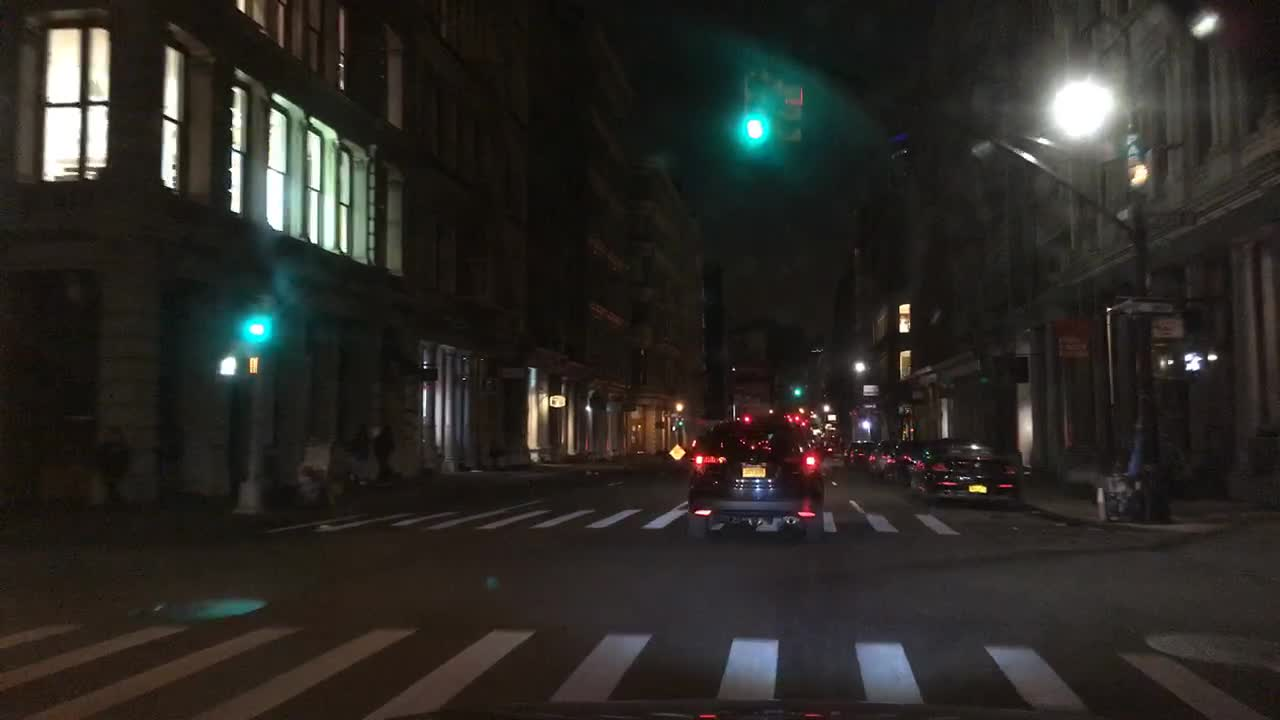car: (687, 415, 823, 542), (913, 436, 1024, 509), (894, 441, 917, 487), (844, 440, 877, 471), (868, 441, 897, 476), (821, 435, 837, 456)
person: (98, 426, 132, 510), (349, 424, 371, 489)
traffic light: (773, 77, 804, 154), (742, 71, 767, 150), (248, 293, 265, 338), (1178, 347, 1200, 378), (217, 353, 239, 380), (245, 354, 259, 376), (794, 380, 801, 396)
traffic sign: (1144, 207, 1198, 233), (1114, 295, 1176, 315), (1150, 316, 1187, 340), (667, 441, 686, 461), (862, 383, 881, 396), (549, 395, 565, 406), (860, 400, 876, 410)
